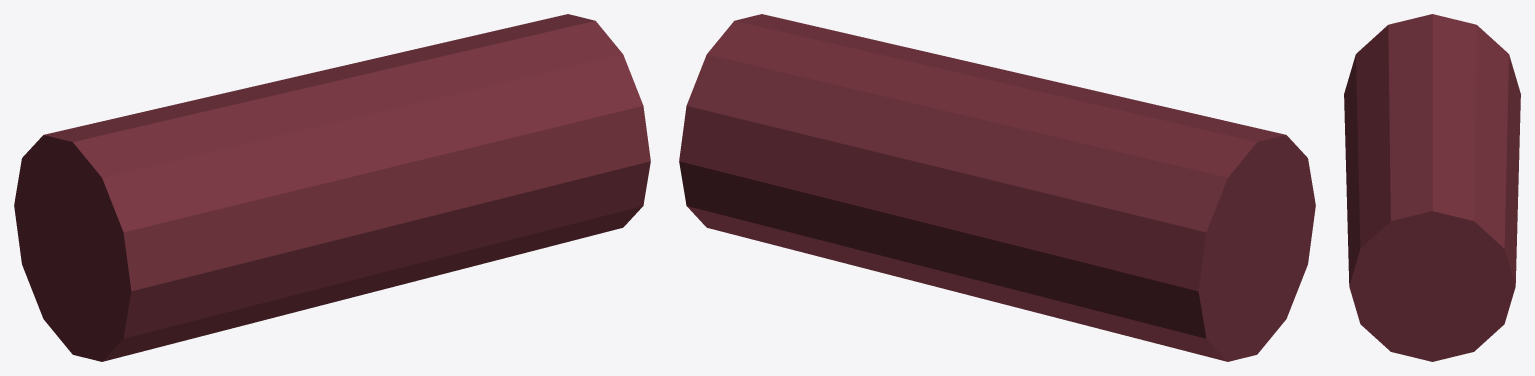
The model's file is SinSleeveLeft.fbx.
3 renders of one model, left to right at view 1: azimuth 30°, elevation 25°; view 2: azimuth 150°, elevation 25°; view 3: azimuth 270°, elevation 25°, orthographic. The views are drawn at different scales.
Parts seen in each view (by area): view 1: SinSleeveLeft; view 2: SinSleeveLeft; view 3: SinSleeveLeft.
Part boxes in pixels (<box>): SinSleeveLeft: <box>14,14,650,361</box>; SinSleeveLeft: <box>679,14,1315,361</box>; SinSleeveLeft: <box>1344,14,1520,361</box>.
Size of the model in its own units: 17.5 by 6.8 by 6.8.
